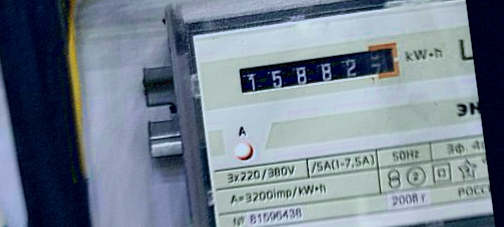1: (246, 71, 257, 90)
2: (343, 56, 358, 77)
5: (267, 68, 284, 88)
7: (368, 60, 382, 73)
8: (318, 59, 333, 82), (294, 63, 309, 85)
screen: (232, 39, 405, 101)
